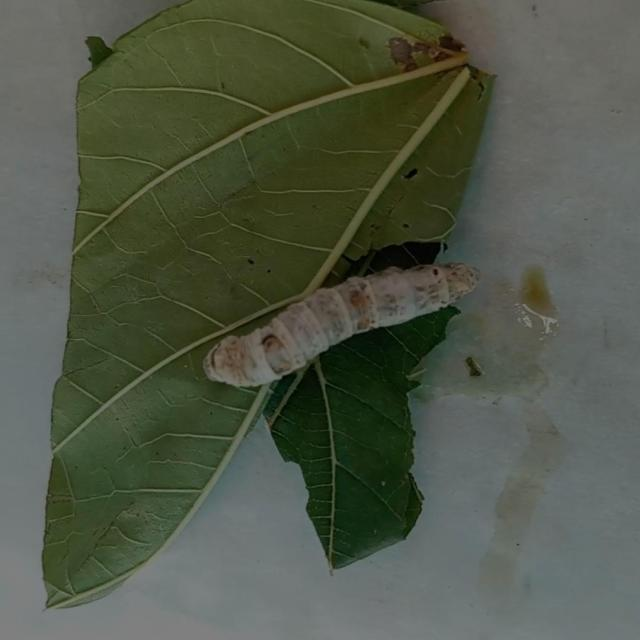Grasserie: (201, 252, 485, 399)
